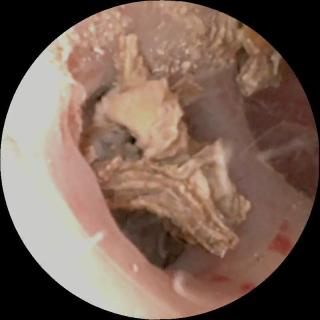stone: (79, 34, 252, 269), (238, 28, 285, 94)
